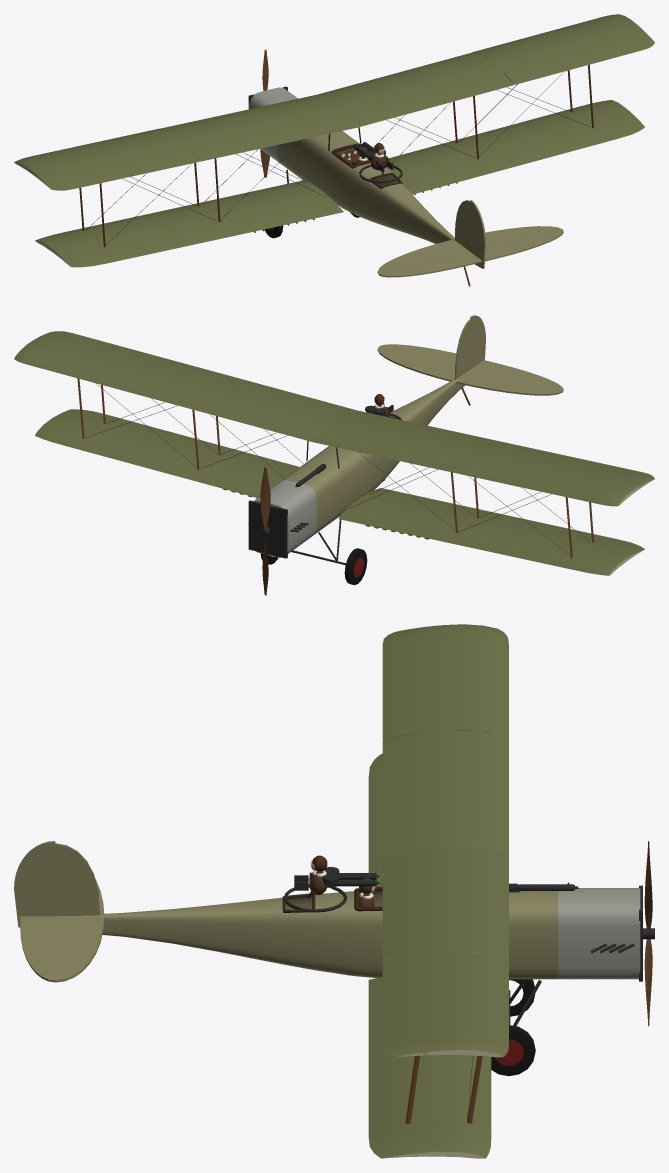
Rendered from breguet_14b2.glb.
3 views of the same model, one above another, from view 1: azimuth 30°, elevation 25°; view 2: azimuth 150°, elevation 25°; view 3: azimuth 270°, elevation 25° (orthographic). The views are drawn at different scales.
Parts seen in each view (by area): view 1: Wing_Upper_R, Wing_Lower_L, Wing_Upper_L, Wing_Lower_R, Fuselage, Aileron_R, Aileron_L, Elevator, Stabilizer_L, Wires, Struts, Stabilizer_R (+4 smaller); view 2: Wing_Upper_R, Wing_Upper_L, Wing_Lower_L, Wing_Lower_R, Fuselage, Engine, Elevator, Stabilizer_L, Wires, Stabilizer_R, Struts, Aileron_R (+5 smaller); view 3: Fuselage, Wing_Upper_L, Wing_Upper_R, Wing_Lower_R, Aileron_L, Aileron_R, Rudder, Fin, Stabilizer_R, Elevator, Wheels, Wing_Lower_L (+4 smaller).
Part boxes in pixels (x1,y1,x2,y2): Wing_Upper_R: (317,14,644,127); Wing_Lower_L: (35,180,343,267); Wing_Upper_L: (14,94,357,180); Wing_Lower_R: (387,100,644,194); Fuselage: (248,87,469,251); Aileron_R: (504,32,654,84); Aileron_L: (41,149,199,190); Elevator: (379,229,563,277); Stabilizer_L: (377,240,469,275); Wires: (85,71,590,244); Struts: (79,64,593,247); Stabilizer_R: (485,226,562,247); Wing_Upper_R: (14,335,357,442); Wing_Upper_L: (314,410,645,506); Wing_Lower_L: (338,488,644,575); Wing_Lower_R: (35,409,299,497); Fuselage: (248,369,470,557); Engine: (248,500,308,558); Elevator: (380,344,563,391); Stabilizer_L: (456,369,562,395); Wires: (85,383,590,555); Stabilizer_R: (377,346,455,381); Struts: (77,378,593,558); Aileron_R: (42,331,199,371); Fuselage: (59,888,640,979); Wing_Upper_L: (382,624,508,856); Wing_Upper_R: (382,847,508,1057); Wing_Lower_R: (368,977,491,1158); Aileron_L: (382,627,423,739); Aileron_R: (382,955,423,1057); Rudder: (14,841,55,927); Fin: (55,843,99,916); Stabilizer_R: (55,916,104,982); Elevator: (20,916,55,982); Wheels: (491,979,535,1076); Wing_Lower_L: (368,753,382,887).
Size of the model in its own units: 14.36 by 3.3 by 9.14.
